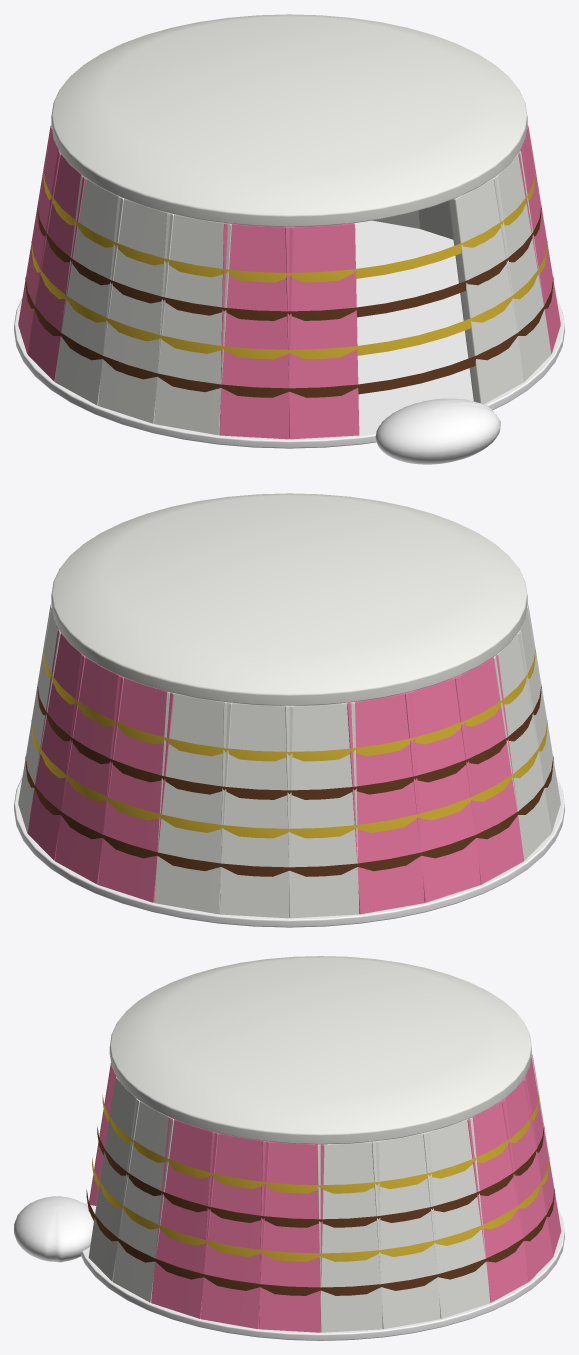
Rendered from ice_cream_tub.glb.
3 views of the same model, one above another, from view 1: azimuth 30°, elevation 25°; view 2: azimuth 150°, elevation 25°; view 3: azimuth 270°, elevation 25° (orthographic). The views are drawn at different scales.
Visible parts, largest first — view 1: ice_cream_tub.001; view 2: ice_cream_tub.001; view 3: ice_cream_tub.001.
Boxes of the visible parts, bbox=[...] form: ice_cream_tub.001: bbox=[14, 14, 564, 464]; ice_cream_tub.001: bbox=[14, 493, 564, 927]; ice_cream_tub.001: bbox=[14, 956, 564, 1340].
Bounding box in the file's own units: 25 × 12.9 × 28.2.
